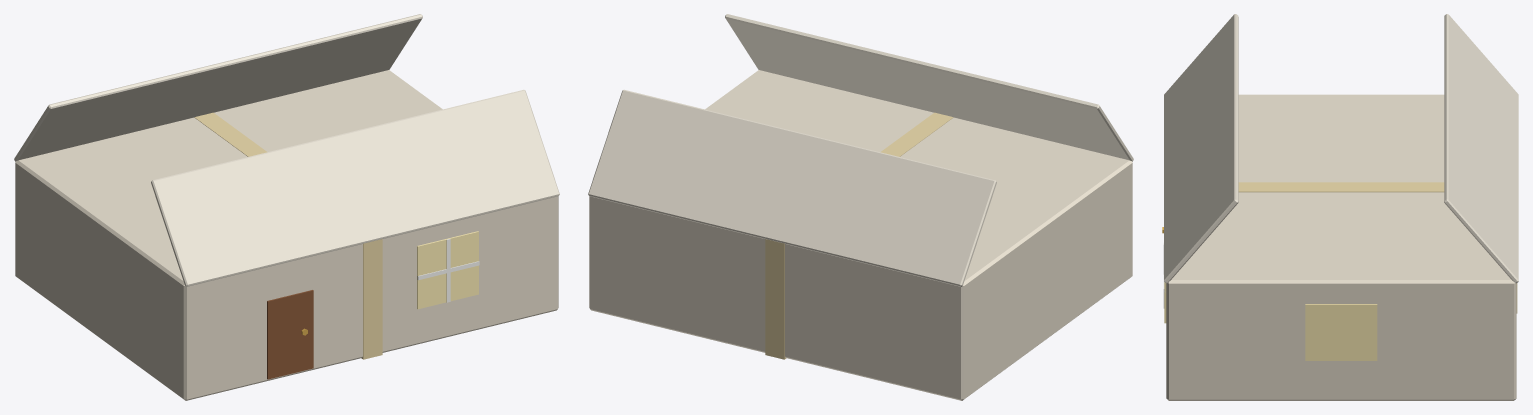
The model's file is rental_penthouse.glb.
3 views of the same model, side by side, from view 1: azimuth 30°, elevation 25°; view 2: azimuth 150°, elevation 25°; view 3: azimuth 270°, elevation 25° (orthographic). The views are drawn at different scales.
Visible parts, largest first — view 1: rental_penthouse_Body; view 2: rental_penthouse_Body; view 3: rental_penthouse_Body.
Part boxes in pixels (x1=…): rental_penthouse_Body: x1=14, y1=14, x2=559, y2=400; rental_penthouse_Body: x1=588, y1=14, x2=1133, y2=400; rental_penthouse_Body: x1=1162, y1=14, x2=1518, y2=400.
Bounding box in the file's own units: 1 × 0.5 × 0.8.
